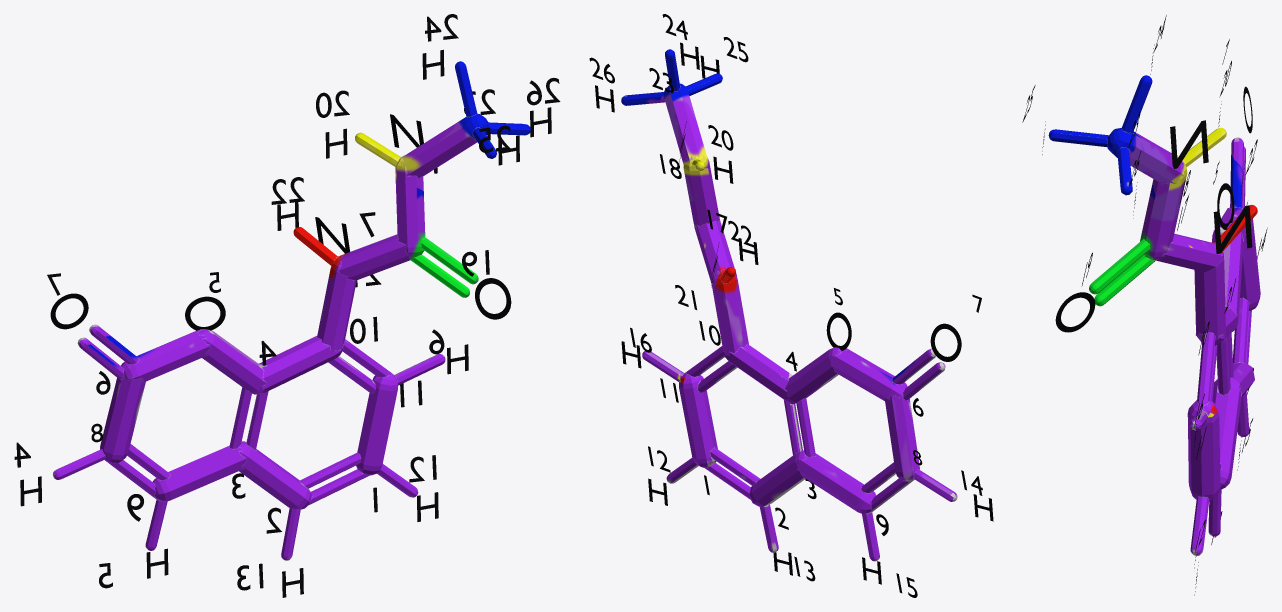
Rendered from molecule4.fbx.
3 views of the same model, side by side, from view 1: azimuth 30°, elevation 25°; view 2: azimuth 150°, elevation 25°; view 3: azimuth 270°, elevation 25° (orthographic). The views are drawn at different scales.
Visible parts, largest first — view 1: Coumarin_13; view 2: Coumarin_13; view 3: Coumarin_13, Text.003, Text.004, Text.
Part boxes in pixels (x1=…): Coumarin_13: x1=53, y1=61, x2=530, y2=560; Coumarin_13: x1=621, y1=49, x2=957, y2=561; Coumarin_13: x1=1048, y1=75, x2=1260, y2=555; Text.003: x1=1170, y1=120, x2=1208, y2=168; Text.004: x1=1213, y1=205, x2=1252, y2=253; Text: x1=1055, y1=292, x2=1095, y2=332.
Size of the model in its own units: 971 by 1064 by 383.
5 materials, 1 textured.
